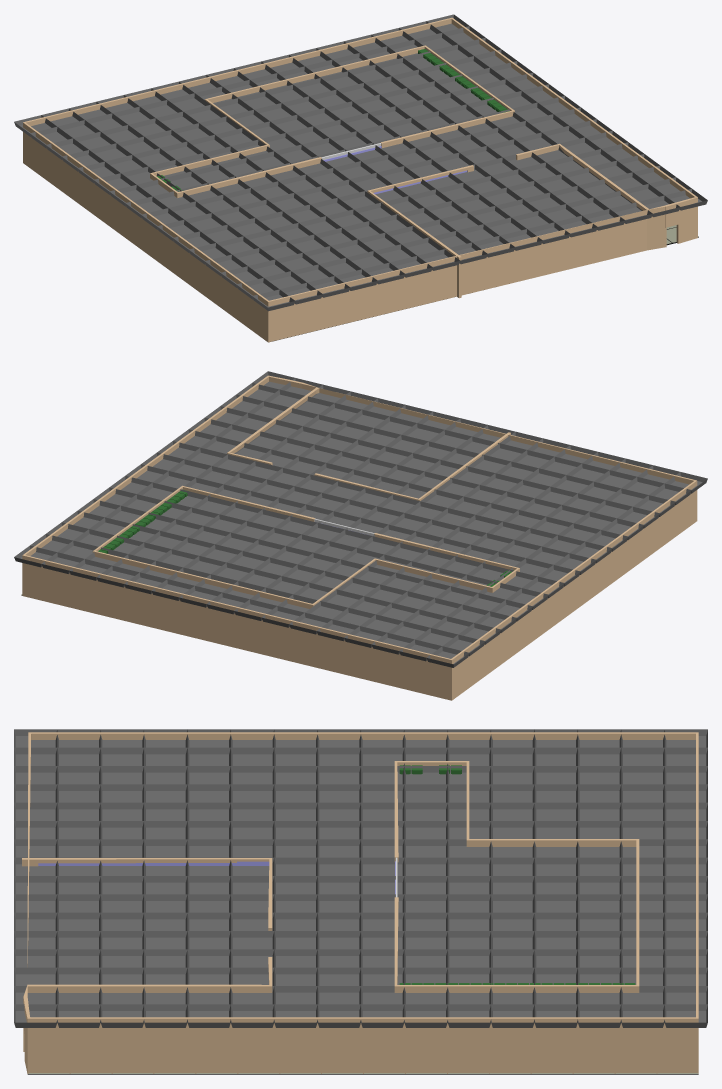
Rendered from LD Jam Level 1.fbx.
3 views of the same model, one above another, from view 1: azimuth 30°, elevation 25°; view 2: azimuth 150°, elevation 25°; view 3: azimuth 270°, elevation 25° (orthographic). The views are drawn at different scales.
Visible parts, largest first — view 1: Plane.005, Plane.001; view 2: Plane.005, Plane.001; view 3: Plane.005, Plane.001, Plane, Cube.009.
Part boxes in pixels (<box>): Plane.005: <box>14,14,707,311</box>; Plane.001: <box>23,17,697,342</box>; Plane.005: <box>14,371,707,667</box>; Plane.001: <box>22,375,697,700</box>; Plane.005: <box>14,729,707,1027</box>; Plane.001: <box>22,732,698,1073</box>; Plane: <box>27,1073,698,1074</box>; Cube.009: <box>38,861,269,865</box>.
Size of the model in its own units: 5879 by 621 by 5879.
